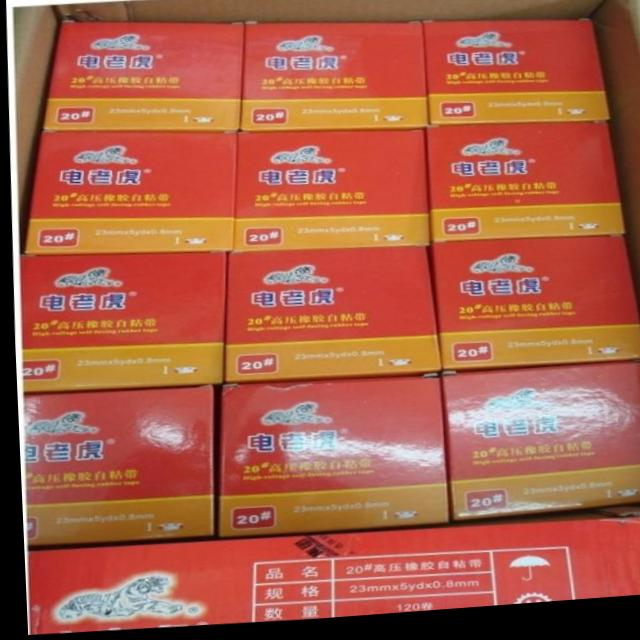box: (22, 515, 640, 634), (214, 379, 443, 539), (437, 370, 640, 526), (20, 387, 208, 545), (220, 251, 437, 384), (18, 254, 224, 392), (424, 244, 640, 375), (22, 131, 234, 255), (227, 135, 427, 256), (423, 130, 622, 248), (41, 21, 243, 134), (239, 25, 426, 135), (423, 26, 608, 131)
